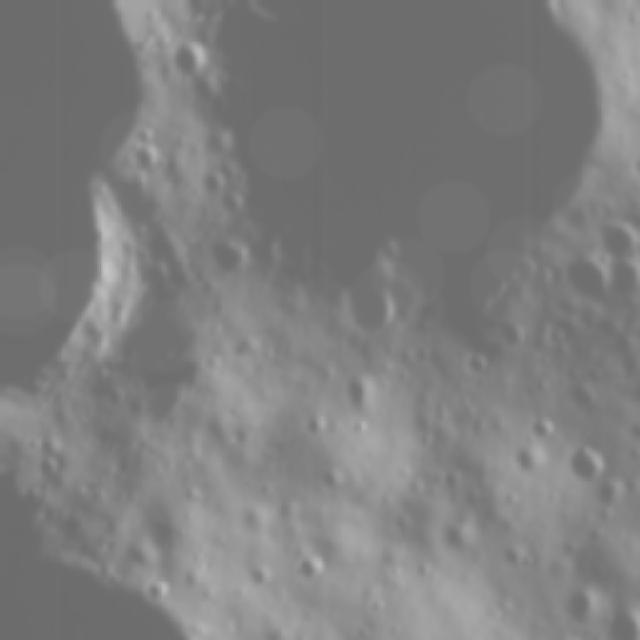crater: (191, 0, 634, 360), (0, 169, 162, 425), (539, 246, 619, 311), (338, 272, 400, 336), (197, 227, 255, 284), (557, 436, 612, 484), (587, 214, 640, 263), (162, 30, 210, 81), (603, 252, 640, 310), (555, 585, 603, 629), (285, 548, 332, 588), (506, 437, 549, 477), (129, 570, 173, 604), (600, 604, 640, 640), (523, 408, 559, 446), (310, 461, 345, 497), (131, 140, 163, 177), (516, 624, 587, 640), (631, 149, 640, 183), (244, 635, 284, 640)
